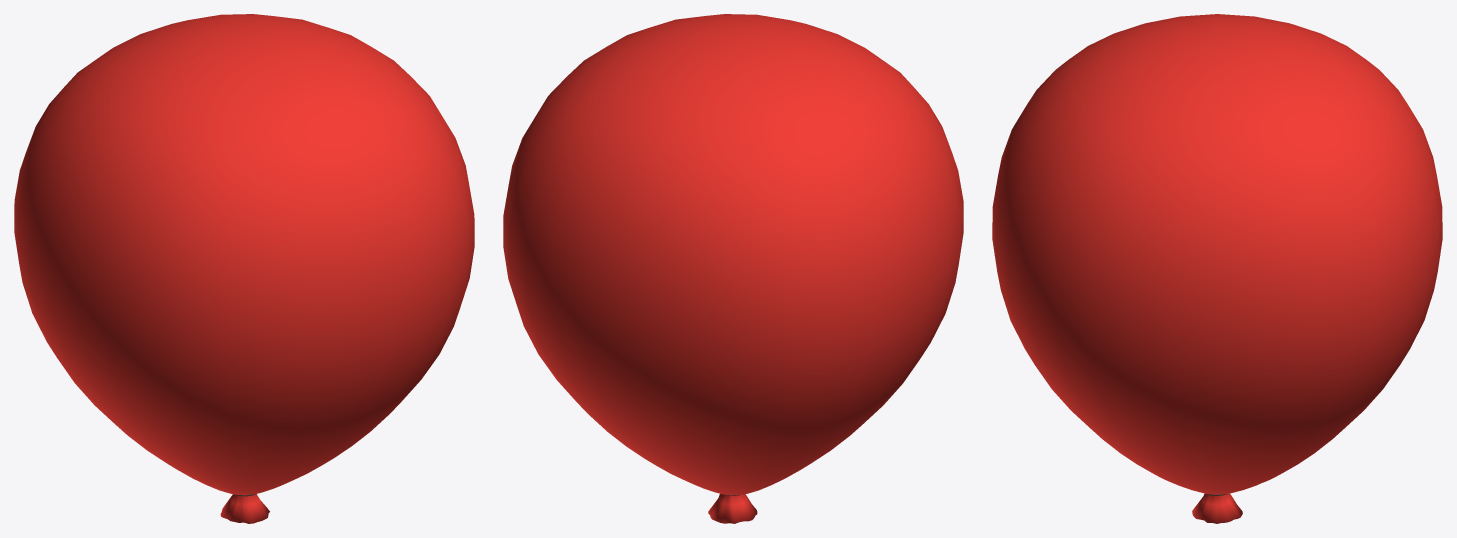
File: balloon.fbx
3 views of the same model, side by side, from view 1: azimuth 30°, elevation 25°; view 2: azimuth 150°, elevation 25°; view 3: azimuth 270°, elevation 25° (orthographic).
Parts seen in each view (by area): view 1: Cube.003, Cylinder.006; view 2: Cube.003, Cylinder.006; view 3: Cube.003, Cylinder.006.
Boxes of the visible parts, left/top/right/bottom form: Cube.003: left=14, top=14, right=474, bottom=495; Cylinder.006: left=220, top=494, right=269, bottom=523; Cube.003: left=503, top=14, right=963, bottom=495; Cylinder.006: left=708, top=493, right=757, bottom=523; Cube.003: left=992, top=14, right=1442, bottom=494; Cylinder.006: left=1192, top=493, right=1242, bottom=523.
Size of the model in its own units: 461 by 532 by 461.
